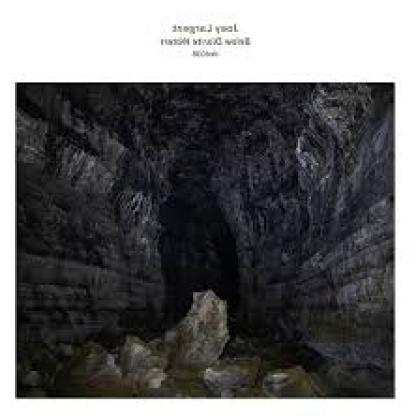Igneous_Diorite: (221, 114, 324, 240), (24, 225, 126, 339), (262, 247, 390, 330), (332, 92, 393, 234), (45, 120, 129, 206)
